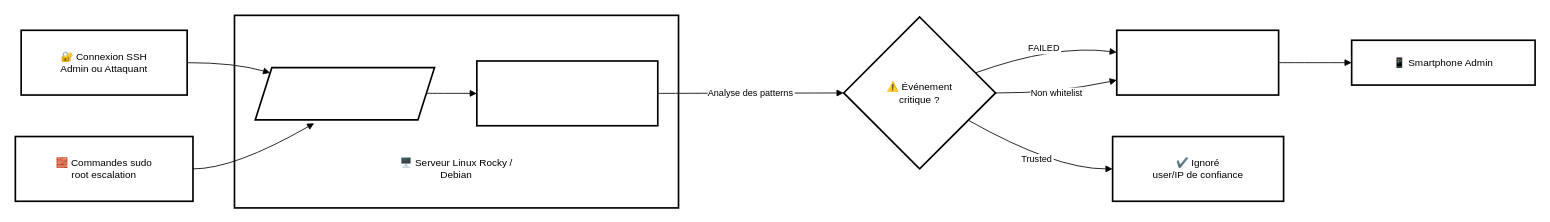
The diagram is 1550 pixels wide and 222 high, and some of its shapes have lost their labels. The shapes that lost their labels are listed below. From the top down, each one's centre as x and y in pixels, then its label:
point (1197, 62): 📲 Alerte Telegram immédiate
point (344, 93): 📄 /var/log/secure 📄 /var/log/auth.log
point (567, 93): 🟢 RootAlert.py Analyse en temps réel
